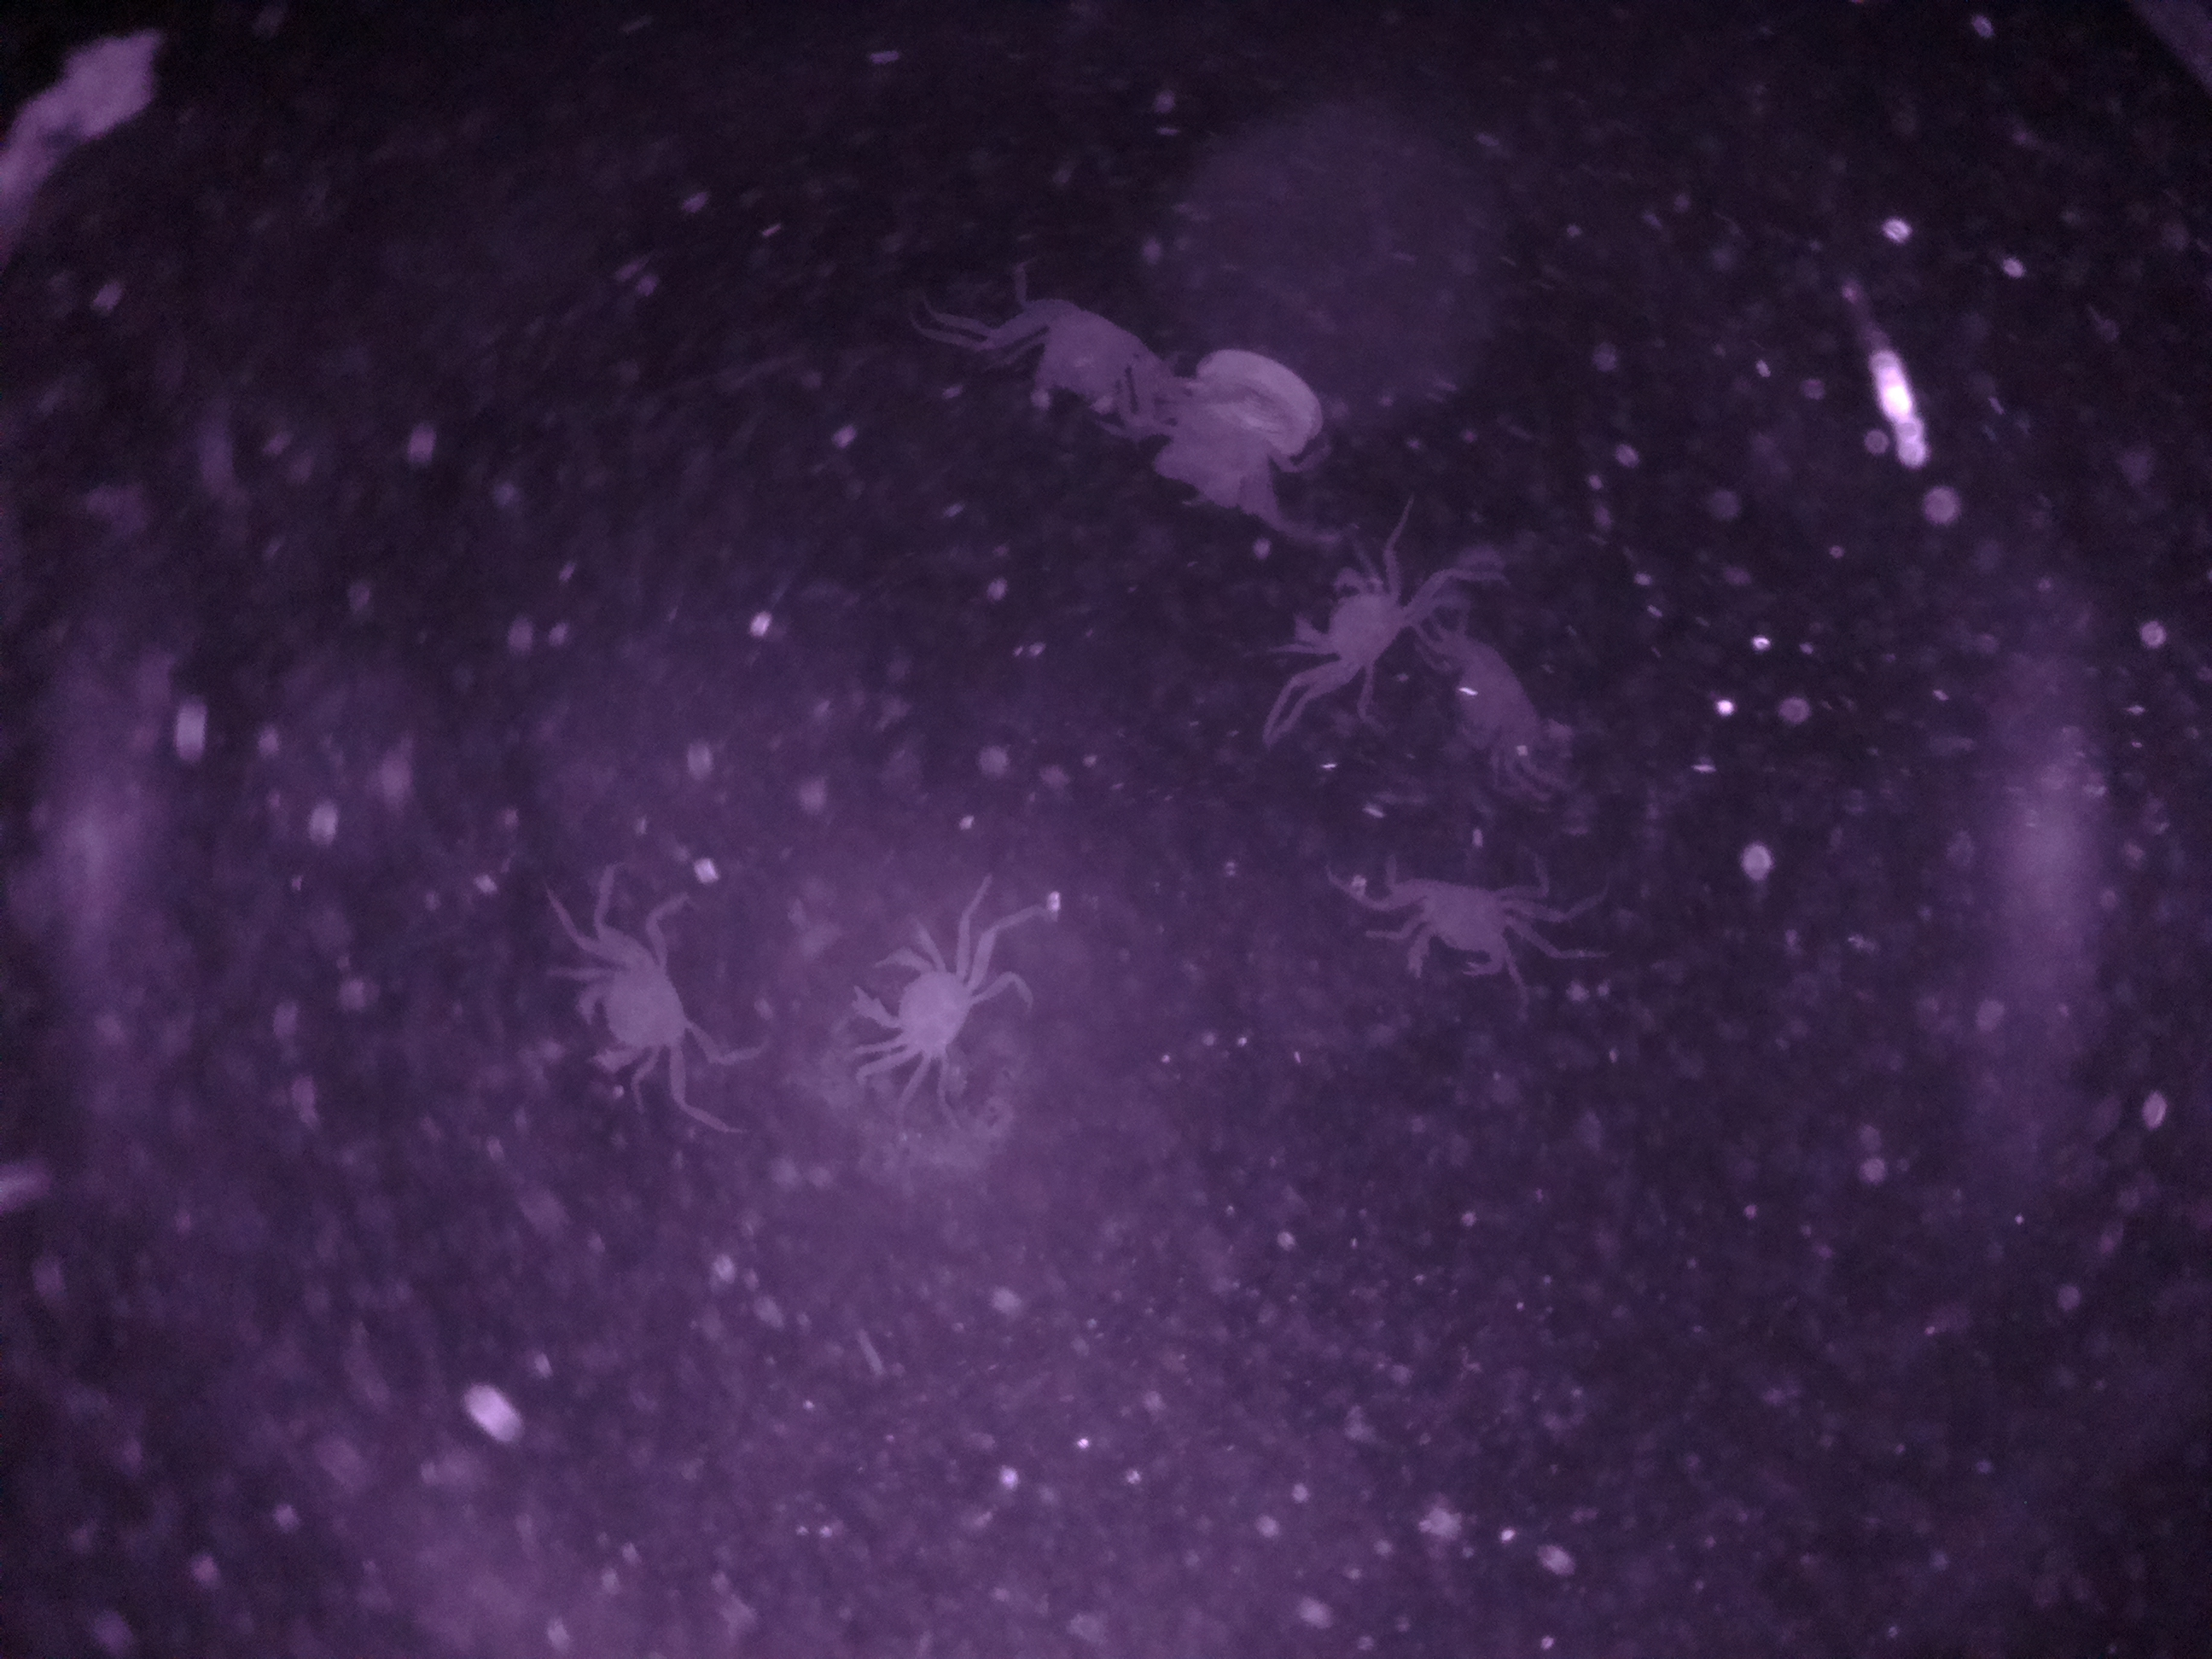Crab: (1268, 523, 1449, 742), (550, 892, 732, 1103), (846, 917, 1036, 1117), (1336, 849, 1590, 979)
